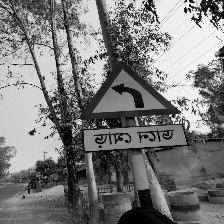Right-turn: (79, 62, 189, 153)
